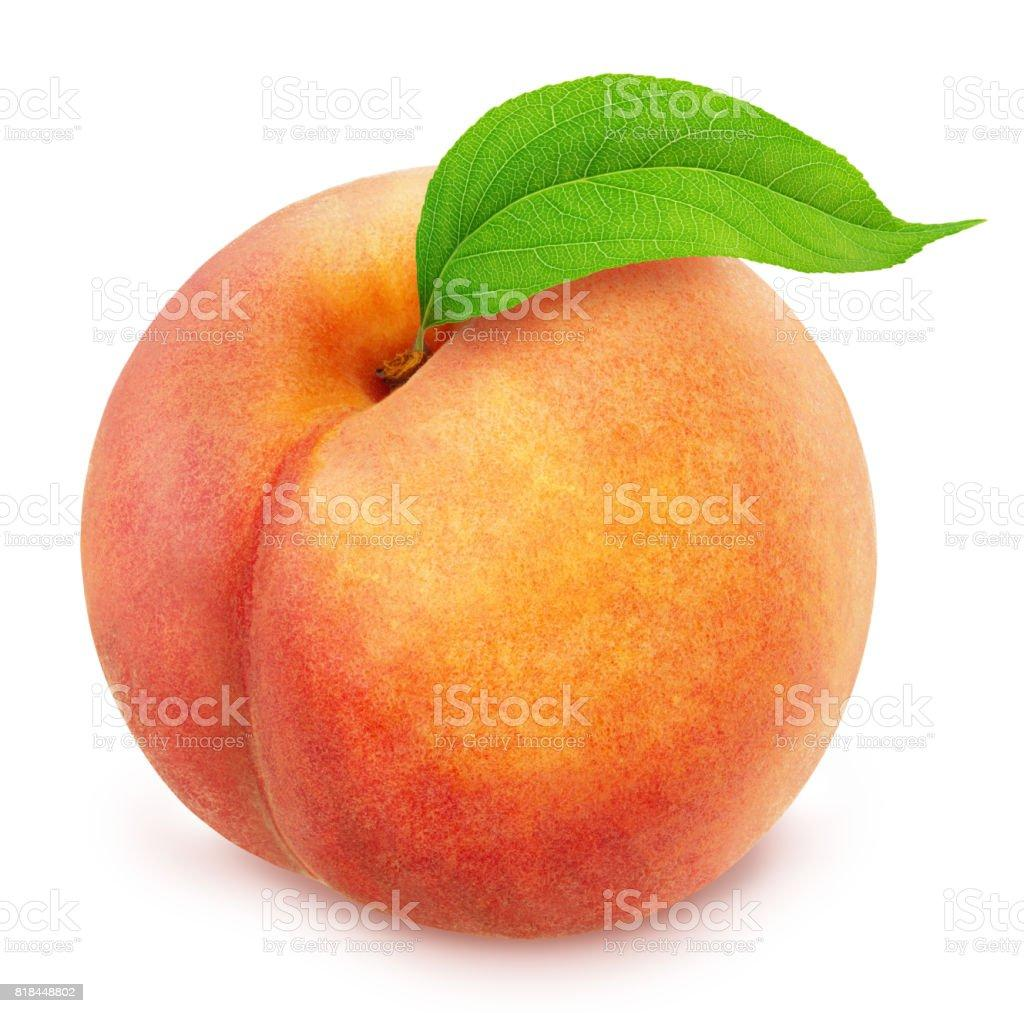Peach Ripe: (81, 76, 955, 935)
